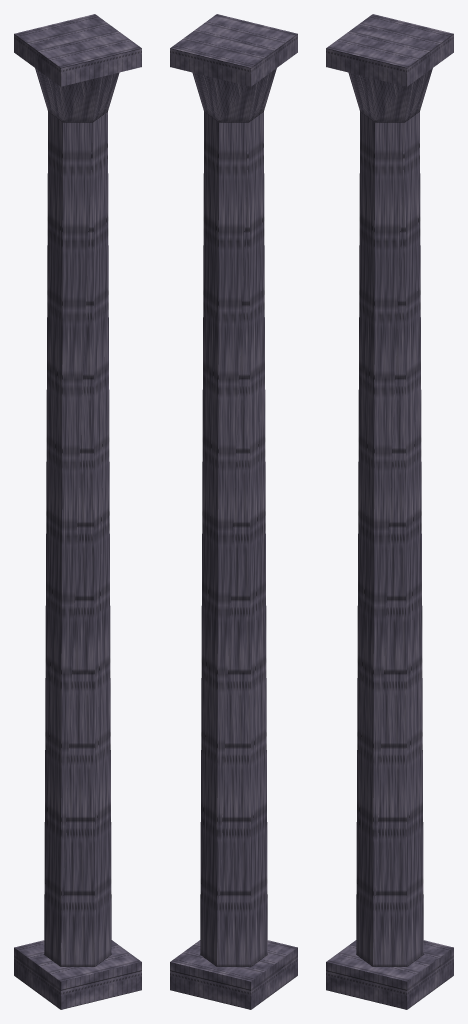
Rendered from Oracle_Hall_Column_LOD2.gltf.
3 renders of one model, left to right at view 1: azimuth 30°, elevation 25°; view 2: azimuth 150°, elevation 25°; view 3: azimuth 330°, elevation 25°, orthographic.
Visible parts, largest first — view 1: Oracle_Hall_Column_LOD2; view 2: Oracle_Hall_Column_LOD2; view 3: Oracle_Hall_Column_LOD2.
Boxes of the visible parts, <box> form: Oracle_Hall_Column_LOD2: <box>14,14,141,1009</box>; Oracle_Hall_Column_LOD2: <box>170,14,297,1009</box>; Oracle_Hall_Column_LOD2: <box>326,14,453,1009</box>.
Bounding box in the file's own units: 3.6 × 40 × 3.6.
1 material, 1 textured.
